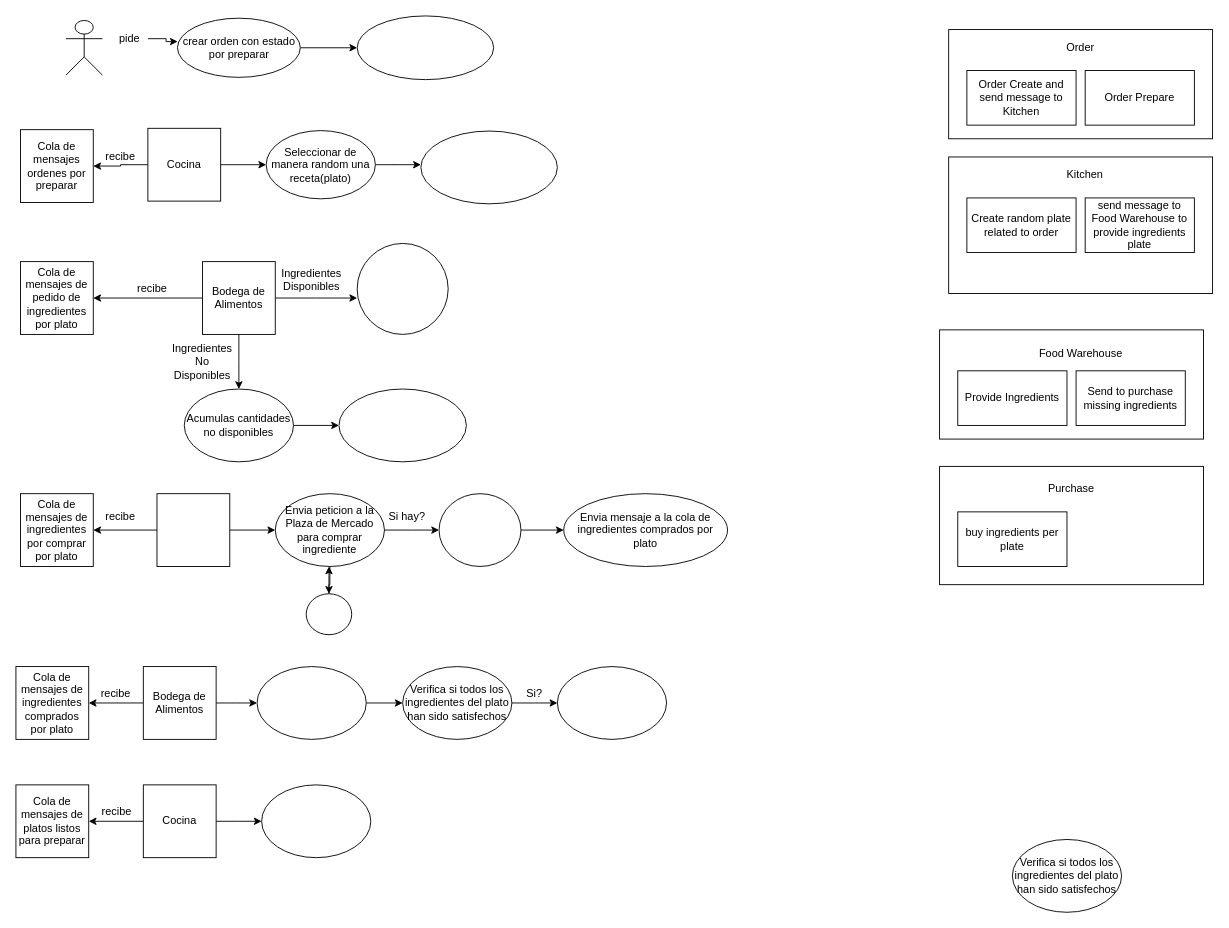
Image size: 1229x928. Some labels were removed from this diagram. Here are the shapes that lost their labels. From the top down, the centre of each, then its label:
At point (83, 47): "Gerente".
At point (425, 47): "Envia mensaje a la cola de ordenes por preparar".
At point (488, 167): "Envia mensaje a Bodega de alimentos para pedir ingredientes del plato".
At point (402, 288): "Separar Stock y actualiza cantidad de satisfaccion".
At point (402, 425): "Envia mensaje a la cola de ingredientes por comprar por plato".
At point (193, 529): "Comprador".
At point (479, 529): "Acumula".
At point (328, 614): "No hay?".
At point (311, 702): "Suma cantidad satisfecha de ingrediente del plato".
At point (611, 702): "Envia mensaje a cola de platos listos para preparar".
At point (316, 821): "Enviar mensaje a cola de ordenes preparadas".
